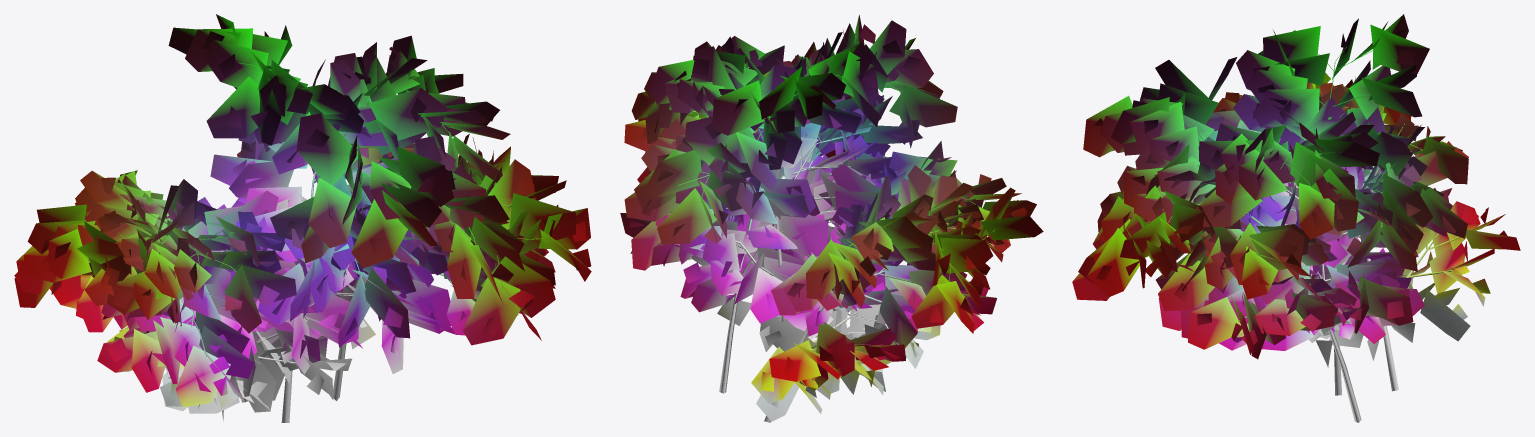
The model's file is arden_forest_hazel_01.fbx.
The picture shows the model from 3 angles, left to right: view 1: azimuth 30°, elevation 25°; view 2: azimuth 150°, elevation 25°; view 3: azimuth 270°, elevation 25°; orthographic projection. The views are drawn at different scales.
Visible parts, largest first — view 1: arden_forest_hazel_01; view 2: arden_forest_hazel_01; view 3: arden_forest_hazel_01.
Part boxes in pixels (bbox=[...]): arden_forest_hazel_01: bbox=[14, 14, 591, 422]; arden_forest_hazel_01: bbox=[620, 15, 1043, 422]; arden_forest_hazel_01: bbox=[1072, 14, 1520, 422].
Bounding box in the file's own units: 7.67 × 6.87 × 6.02.
